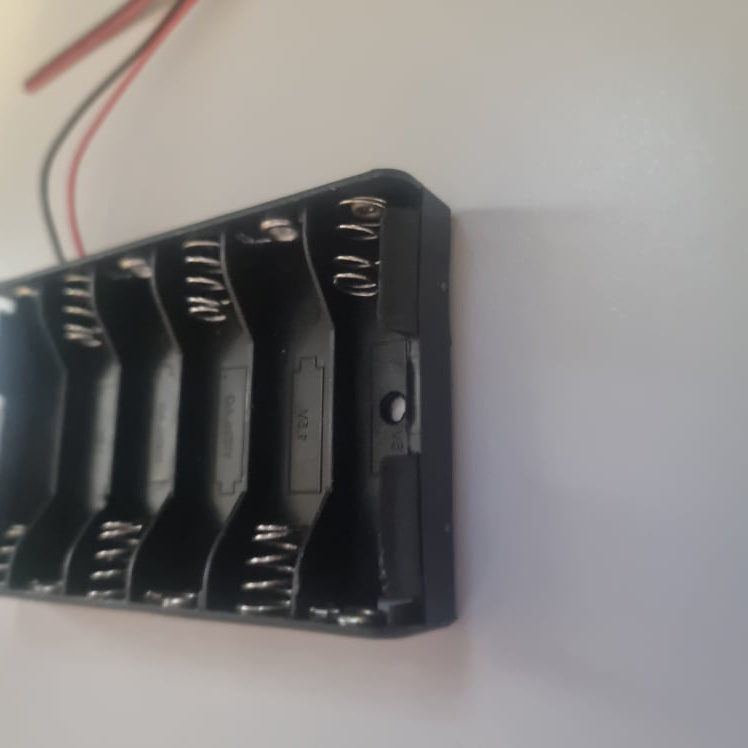BATTERY BOX: (0, 169, 456, 640)
